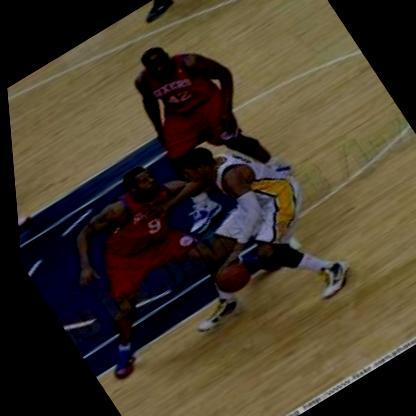basketball: (205, 258, 251, 300)
